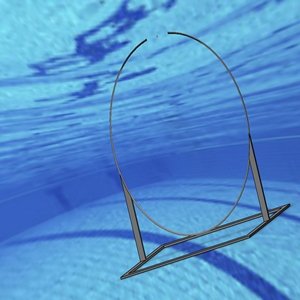circle: (109, 30, 292, 280)
